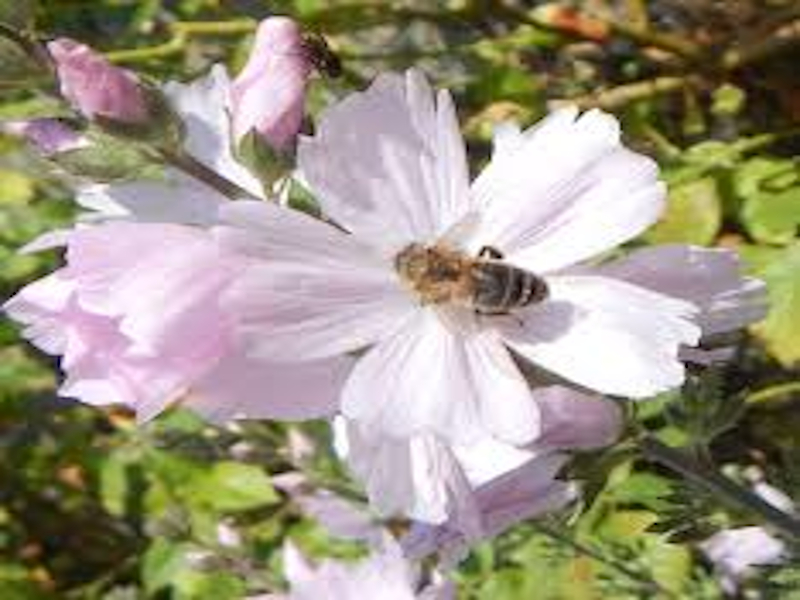abeja: (380, 211, 581, 345)
